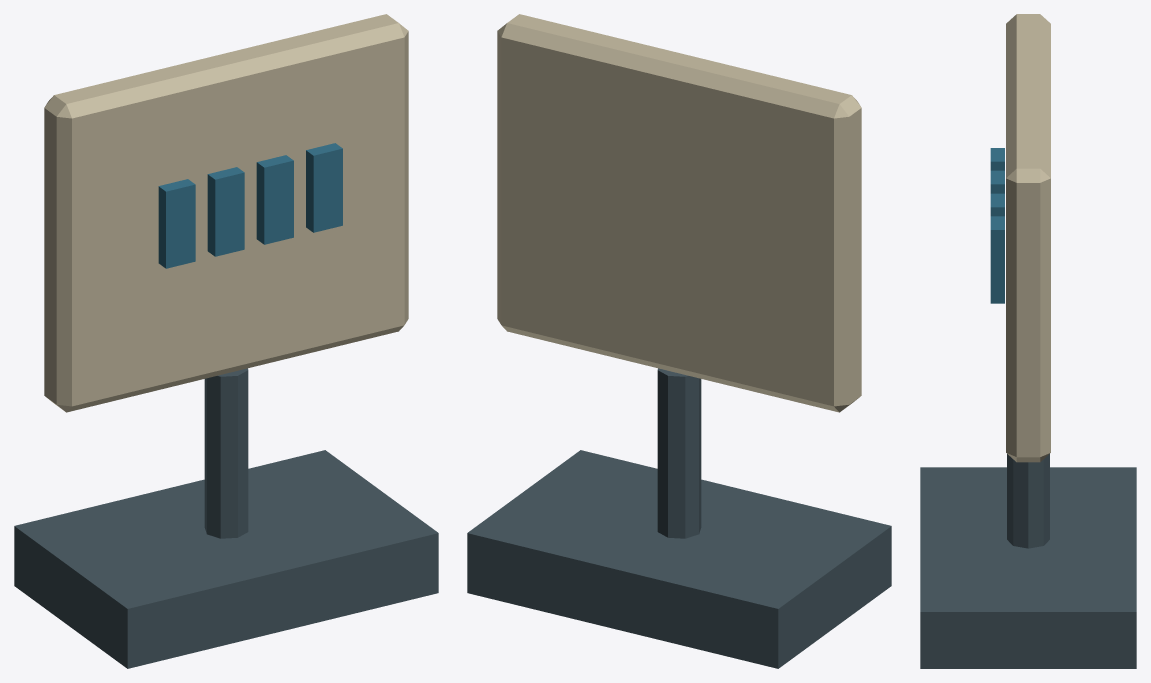
Rendered from set_sale_stand.glb.
3 views of the same model, side by side, from view 1: azimuth 30°, elevation 25°; view 2: azimuth 150°, elevation 25°; view 3: azimuth 270°, elevation 25° (orthographic). The views are drawn at different scales.
Parts seen in each view (by area): view 1: set_sale_stand; view 2: set_sale_stand; view 3: set_sale_stand.
Part boxes in pixels (x1,y1,x2,y2): set_sale_stand: [14, 14, 438, 668]; set_sale_stand: [467, 14, 891, 668]; set_sale_stand: [920, 14, 1136, 668].
Size of the model in its own units: 0.215 by 0.3095 by 0.12.
